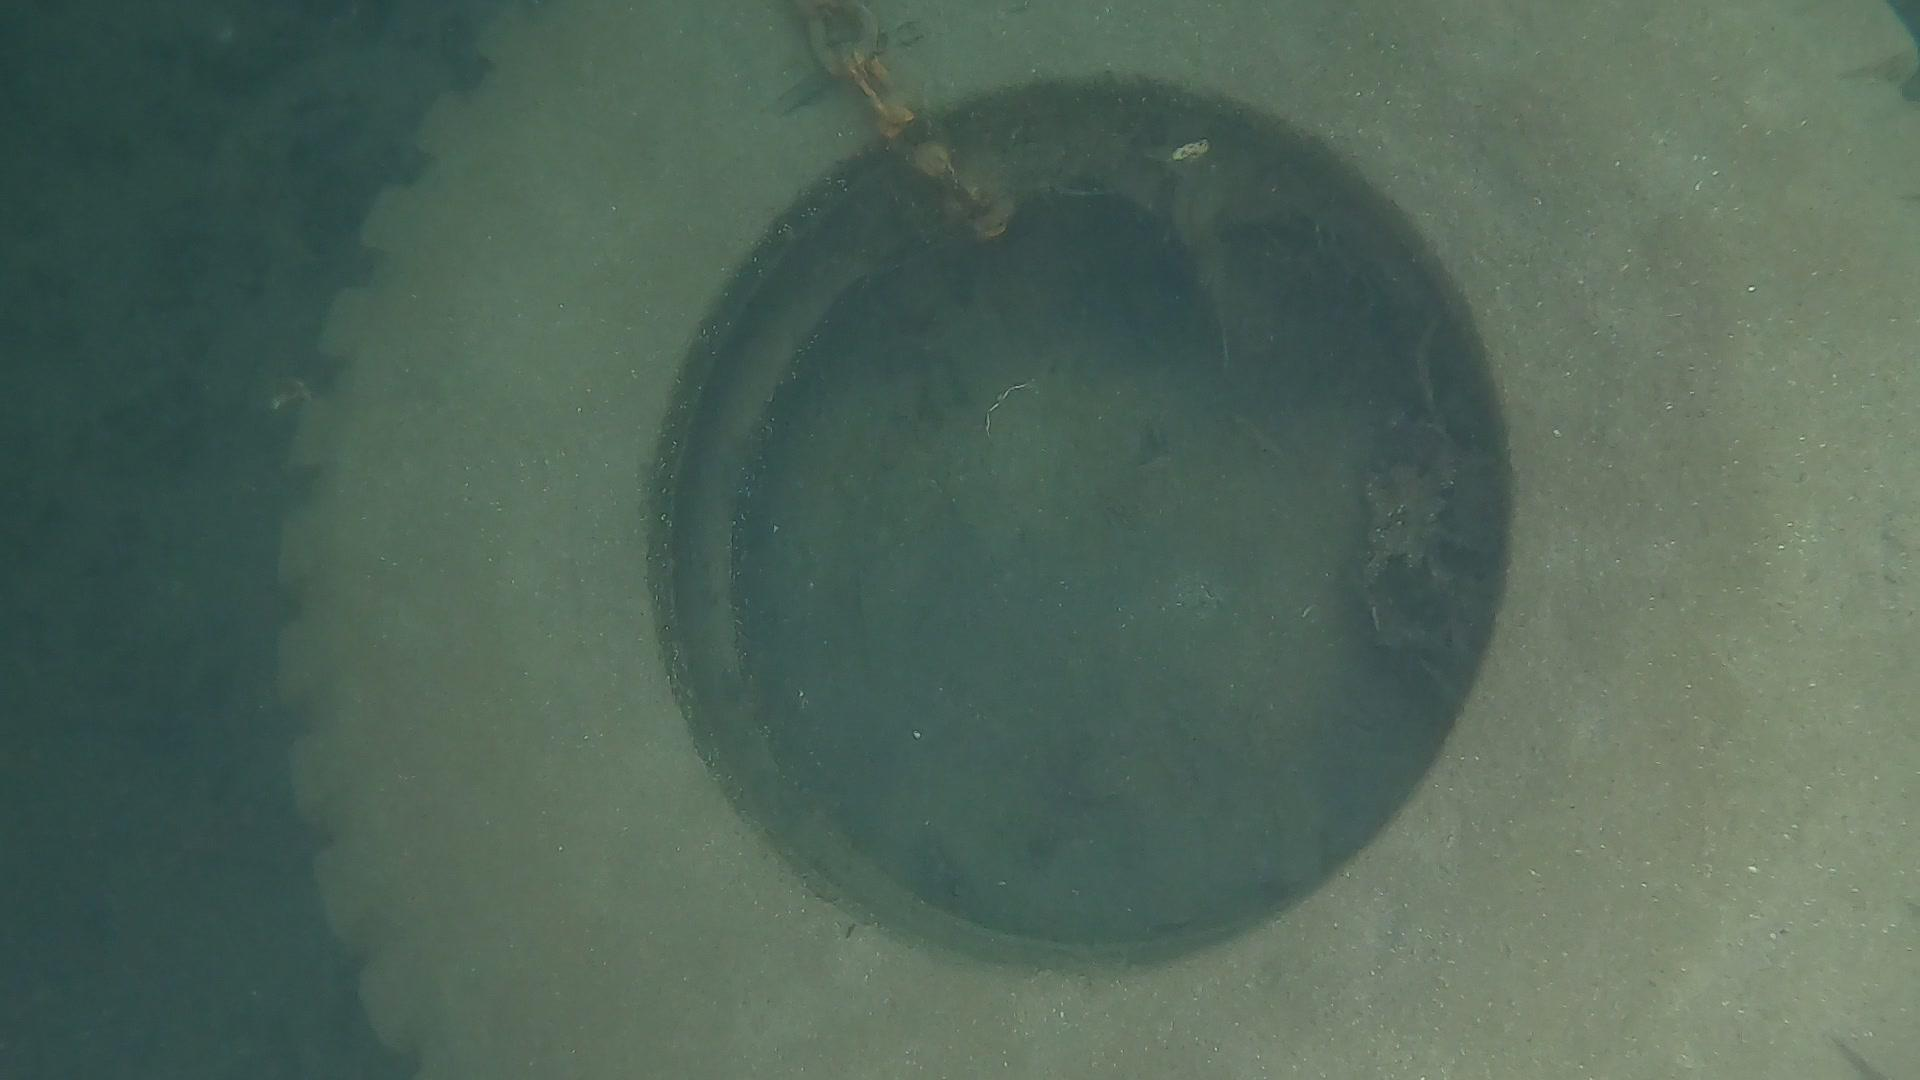tire: (270, 0, 1920, 1080)
